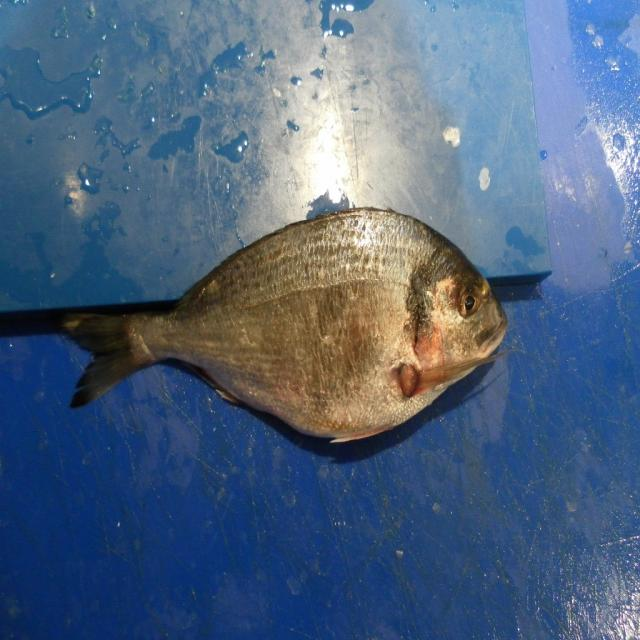Gilt-Head-Bream-c-ipura-: (0, 208, 509, 448)
